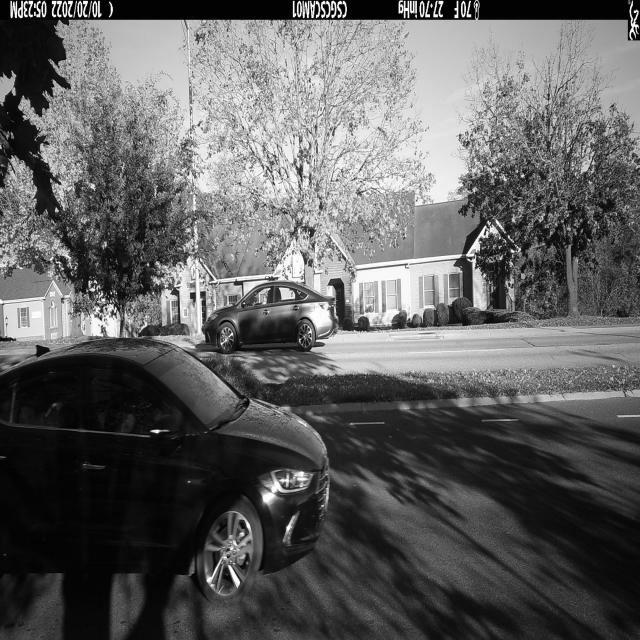Sedan: (0, 338, 329, 600), (201, 281, 342, 352)
